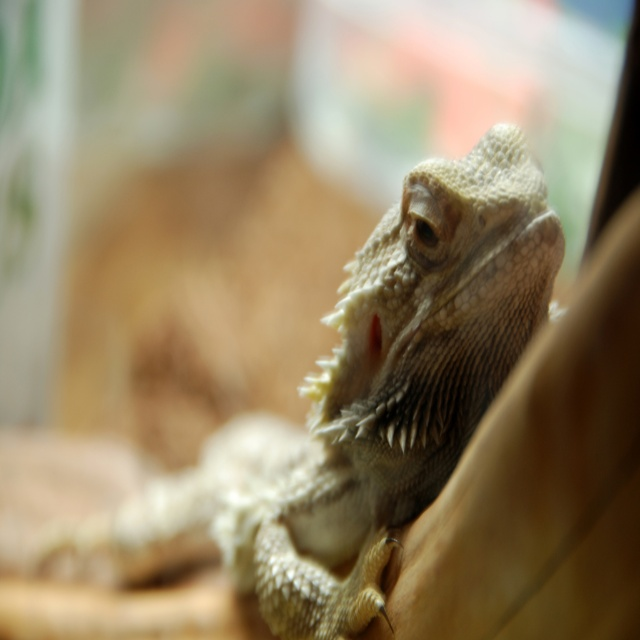Lizard: (61, 135, 575, 640)
